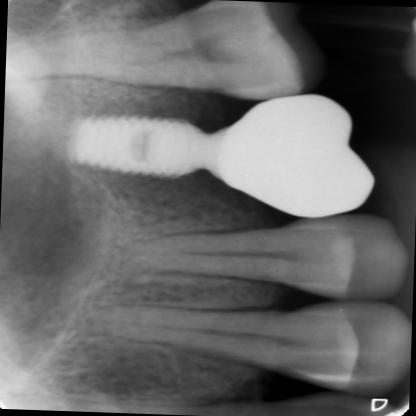Bicon: (64, 98, 223, 181)
